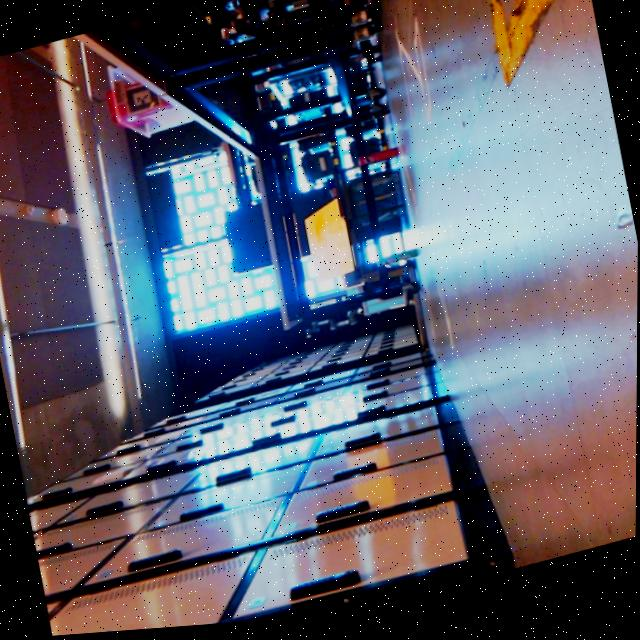greenpringles: (367, 242, 423, 281)
redpringles: (342, 142, 409, 181)
